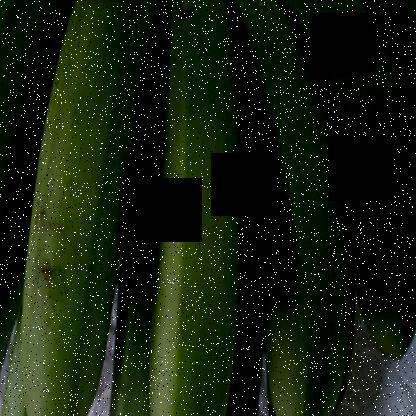freshunripe: (217, 1, 359, 415), (14, 8, 142, 415), (150, 1, 247, 415), (346, 0, 415, 373)
